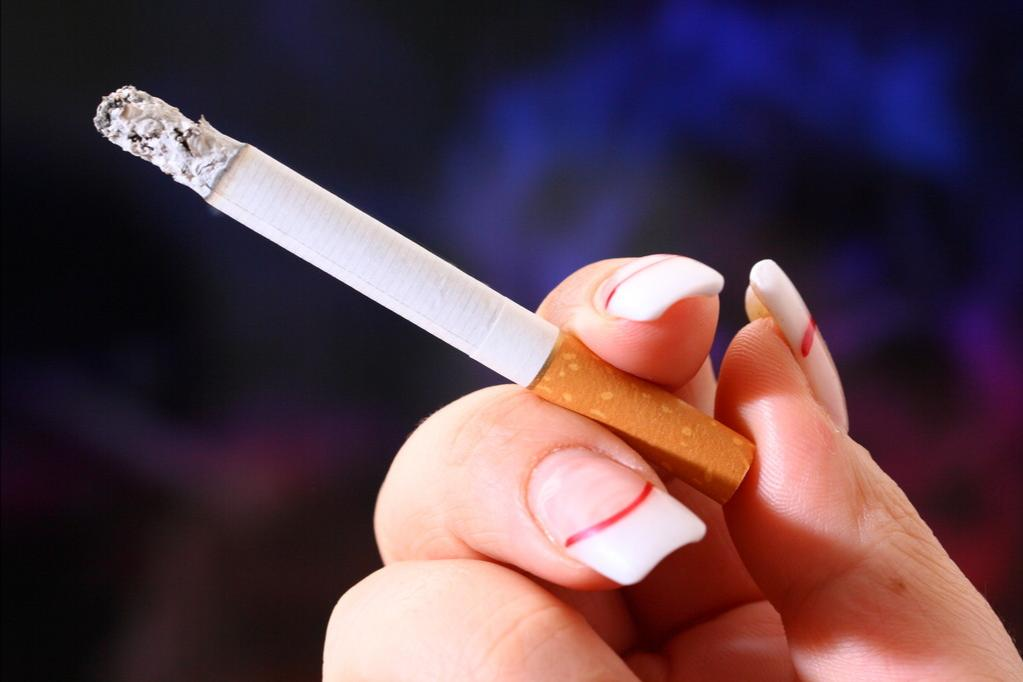Cigarette: (92, 79, 760, 503)
